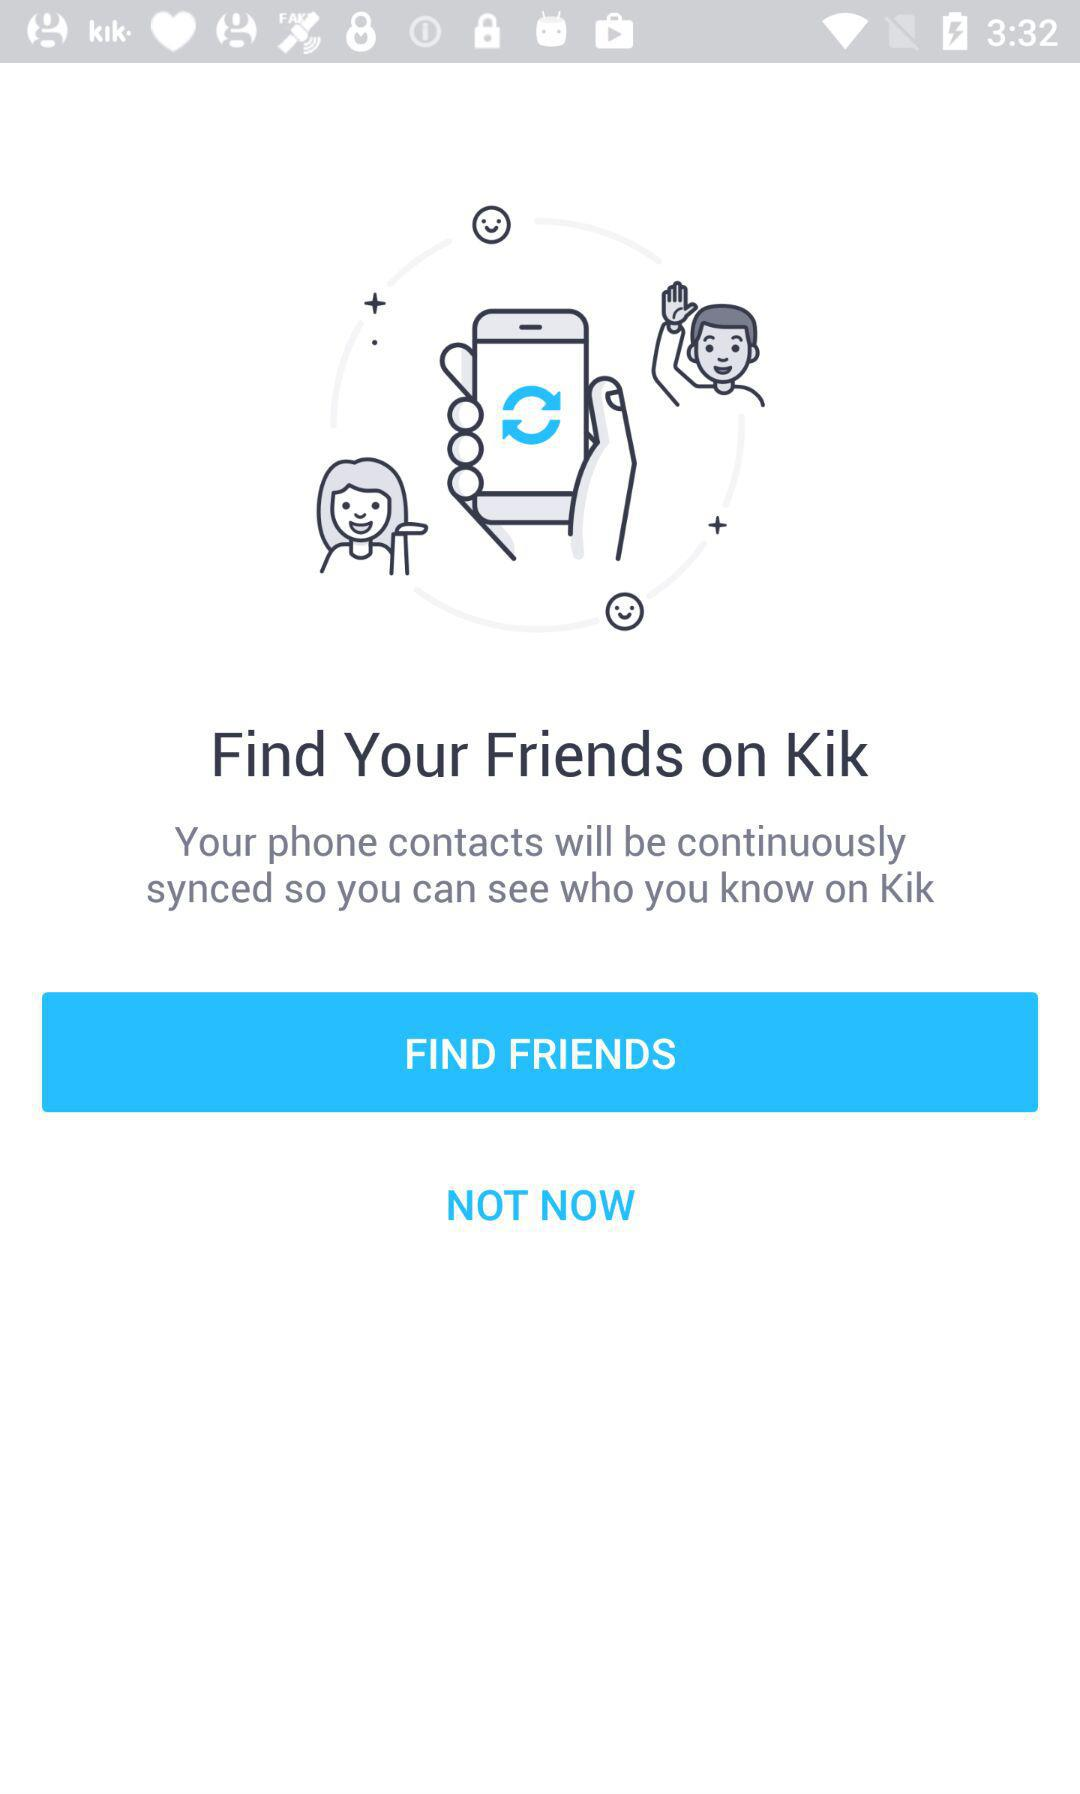Image: (314, 204, 767, 637)
Text: (145, 821, 937, 914), (213, 727, 871, 782), (448, 1189, 635, 1222)
TextButton: (42, 992, 1039, 1114)
UpperTaskBar: (1, 1, 1080, 64)
